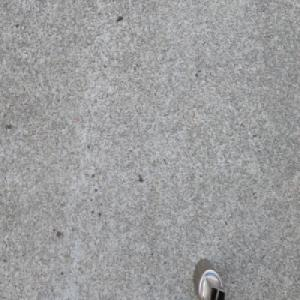MetalPart: (190, 253, 225, 300)
